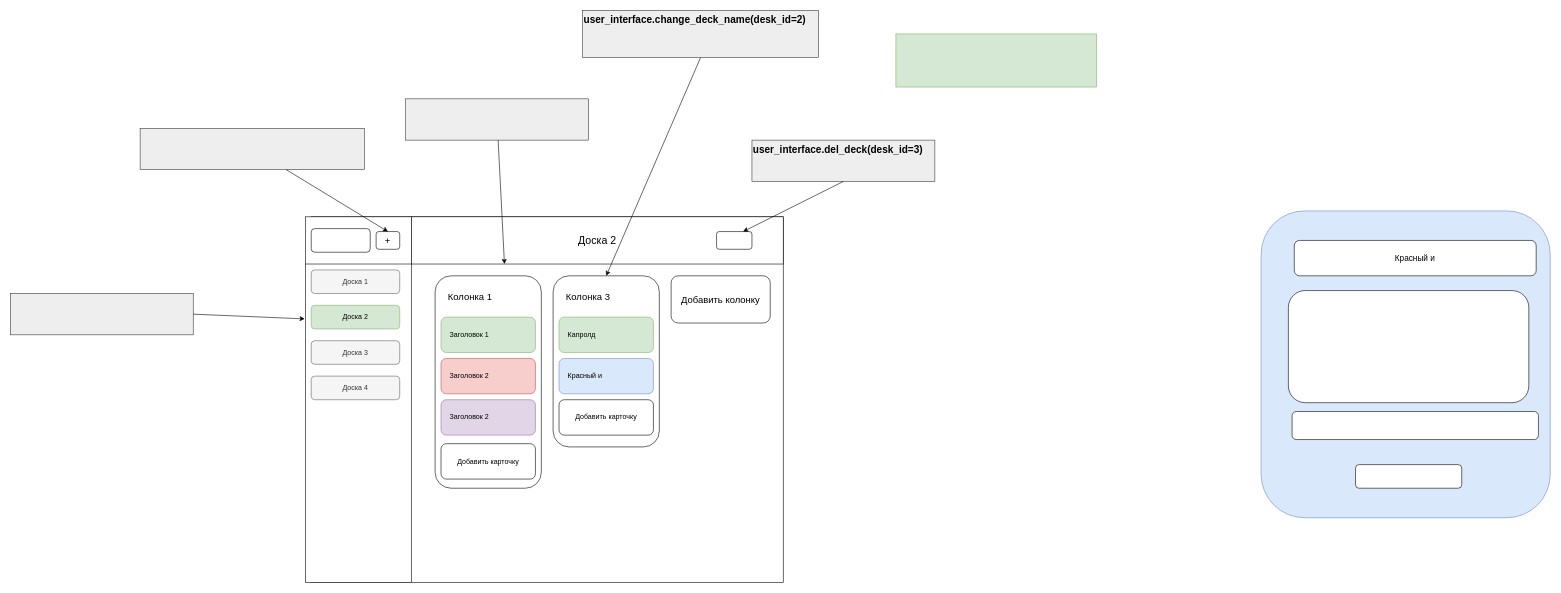
Image size: 1561x593. Some labels were removed from this diagram. The centre of each missing label's shape, as x and y in pixels:
user_interface.create_deck(desk_name='Имя доски'): point 252,149
user_interface.get_deck(desk_id=2): point 497,119
user_interface.get_decks() or . desks Либо метод, либо property: point 101,314
Закрыть карточку: point 1408,476
Мои доски: point 340,240
Создаём экземпляр класса UserInterface user_interface = UserInterface(l): point 996,60
Статус: синий: point 1415,425
Текст карточки: point 1408,346
Удалить: point 734,240
